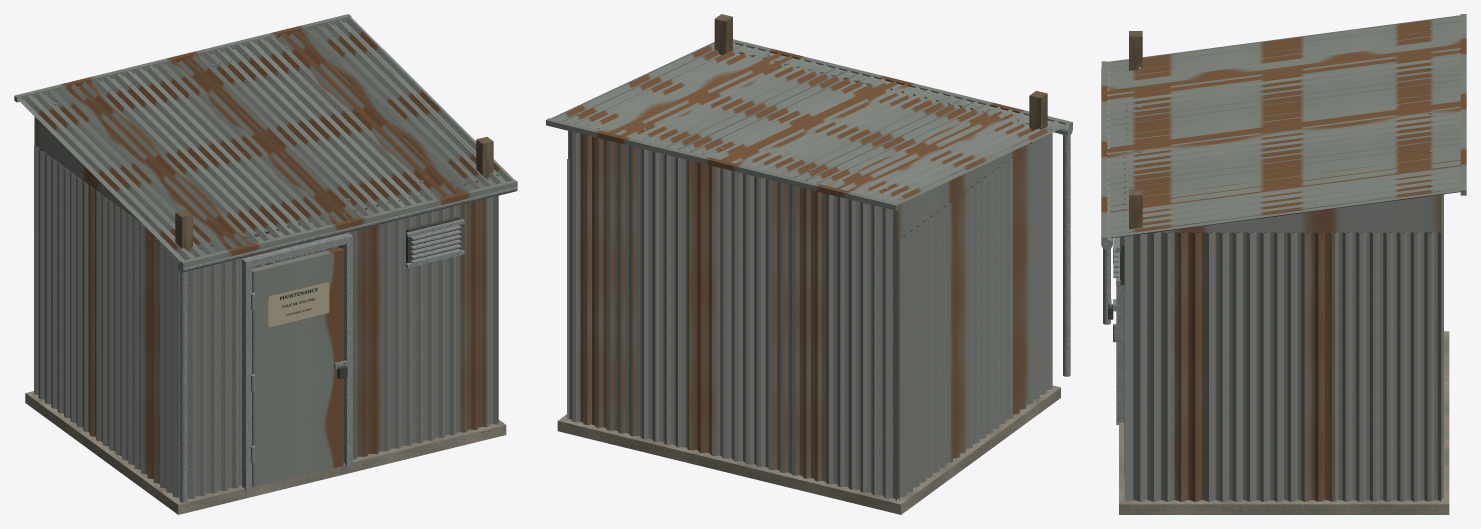
The model's file is SM_SubstationSite_Shed.fbx.
The picture shows the model from 3 angles, left to right: view 1: azimuth 30°, elevation 25°; view 2: azimuth 150°, elevation 25°; view 3: azimuth 270°, elevation 25°; orthographic projection. The views are drawn at different scales.
Visible parts, largest first — view 1: SM_SubstationSite_Shed; view 2: SM_SubstationSite_Shed; view 3: SM_SubstationSite_Shed.
Boxes of the visible parts, x1,y1,x2,y2 form: SM_SubstationSite_Shed: [14, 14, 517, 514]; SM_SubstationSite_Shed: [546, 14, 1072, 514]; SM_SubstationSite_Shed: [1101, 14, 1466, 514].
Size of the model in its own units: 3.18 by 2.79 by 2.75.
